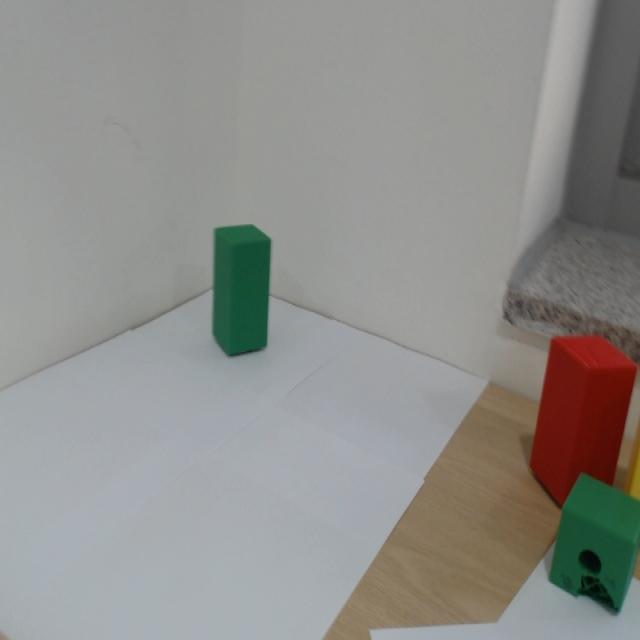cube: (183, 223, 333, 411)
